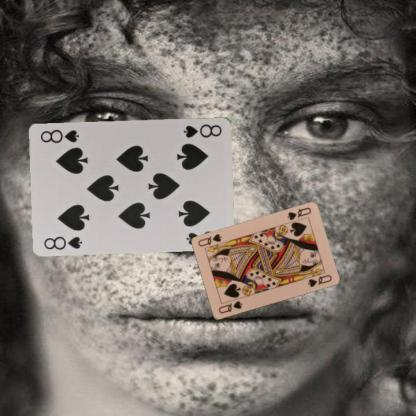8s: (42, 233, 84, 251), (181, 121, 223, 138)
Qs: (284, 205, 312, 222), (216, 299, 243, 315)
